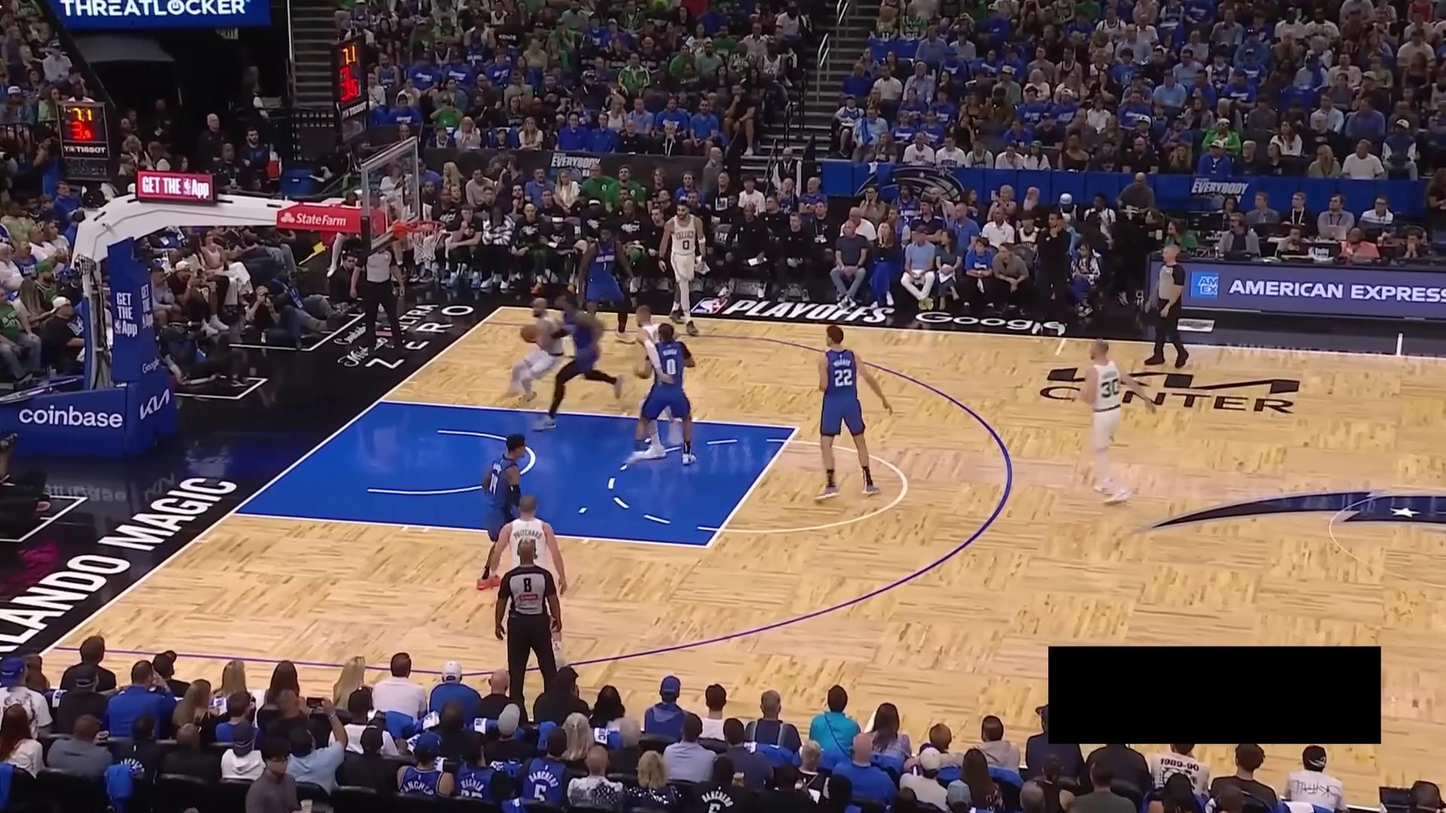ball: (520, 323, 540, 343)
number: (1101, 377, 1122, 400), (834, 368, 854, 387), (487, 472, 499, 494), (664, 358, 676, 377), (682, 239, 690, 251), (603, 262, 607, 271)
player: (487, 494, 572, 675), (815, 323, 893, 506), (1075, 338, 1154, 507), (531, 293, 626, 424), (621, 320, 701, 468), (473, 431, 543, 596), (631, 304, 691, 465), (576, 224, 636, 352), (655, 202, 712, 336)
player-in-possession: (497, 295, 565, 415)
referee: (493, 534, 563, 707), (346, 244, 408, 358), (1144, 242, 1190, 375)
rim: (405, 219, 446, 234)
